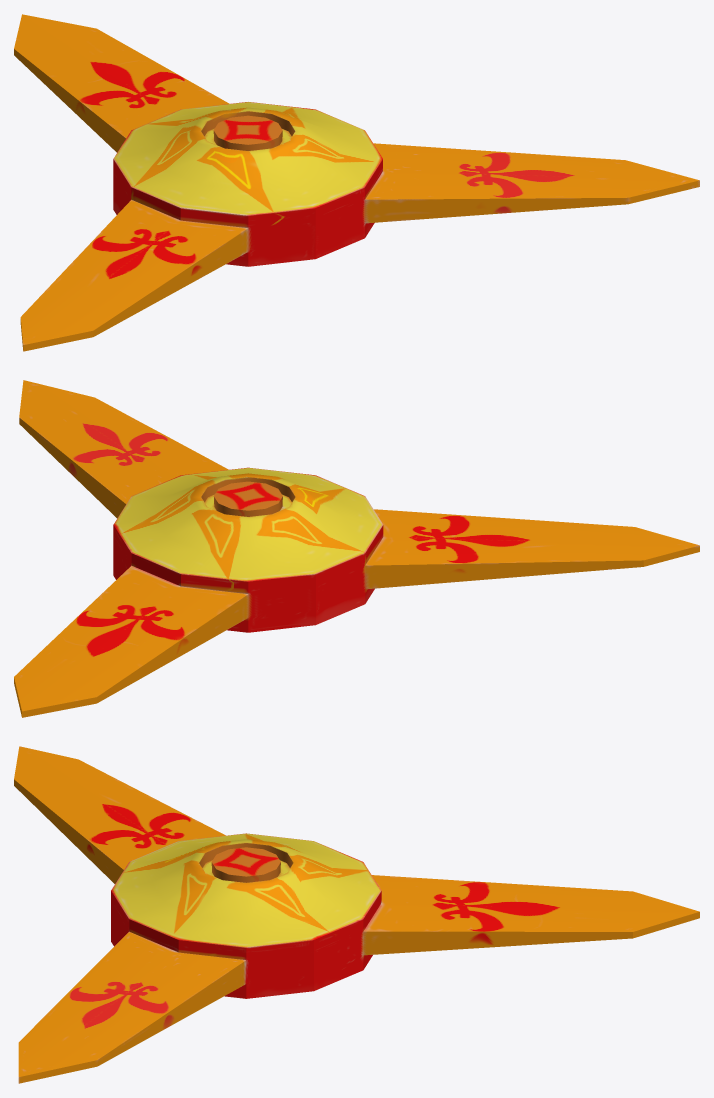
Rendered from game fan.fbx.
The picture shows the model from 3 angles, top to bottom: view 1: azimuth 30°, elevation 25°; view 2: azimuth 150°, elevation 25°; view 3: azimuth 270°, elevation 25°; orthographic projection.
Parts seen in each view (by area): view 1: pCylinder1; view 2: pCylinder1; view 3: pCylinder1.
Part boxes in pixels (x1,y1,x2,y2): pCylinder1: (14,14,699,351); pCylinder1: (14,380,699,717); pCylinder1: (14,746,699,1083).
Size of the model in its own units: 5.79 by 0.6614 by 5.07.
1 material, 1 textured.
